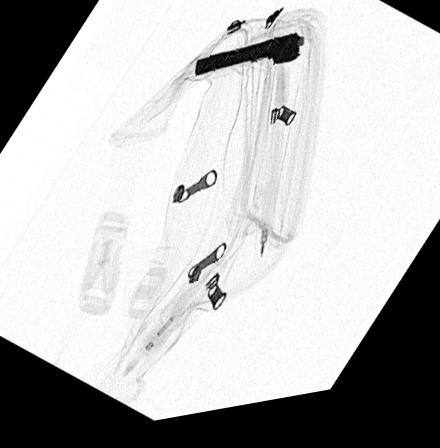Gun: (194, 43, 301, 85)
